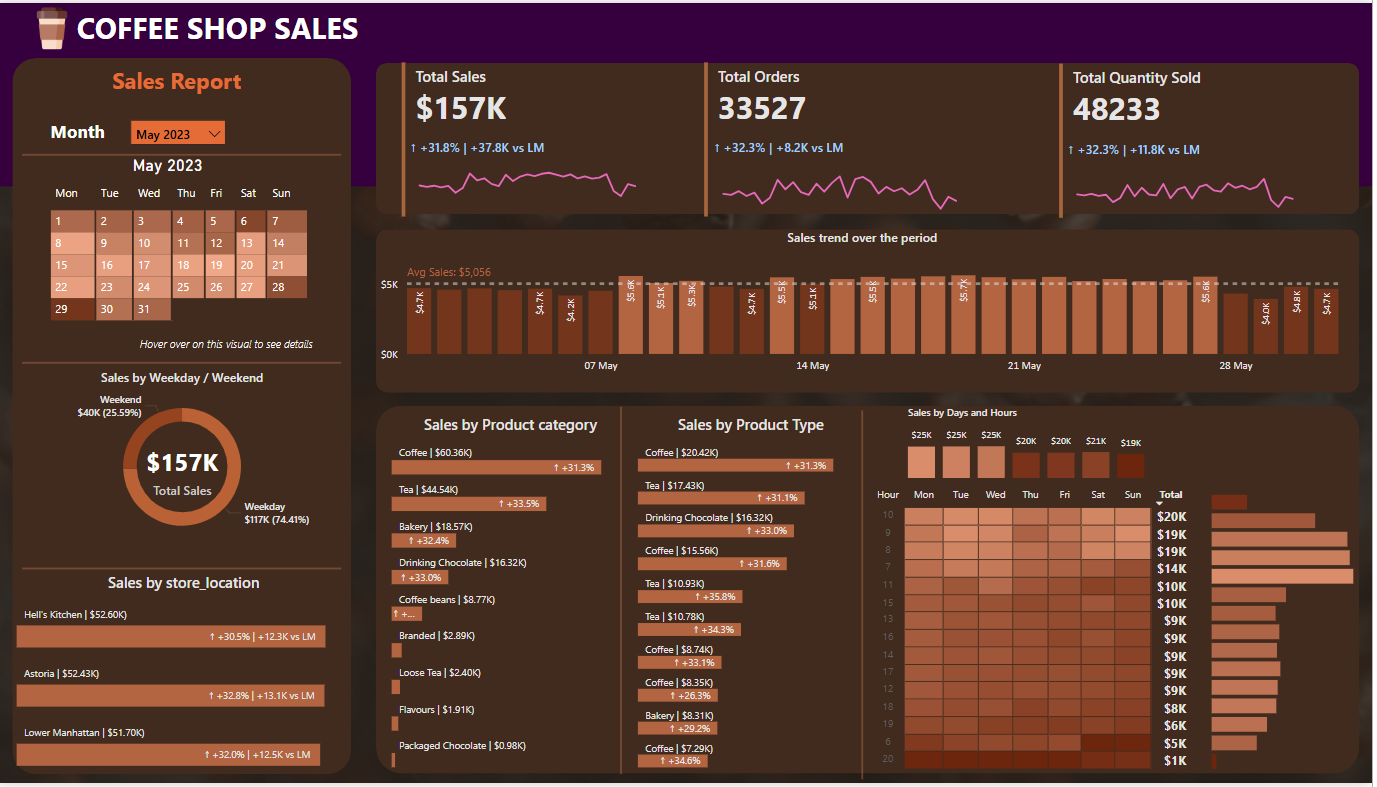

What the dashboard file says about the page in this screenshot:
{"tool":"powerbi","page":{"name":"Page 1","canvas":[1500,850],"ordinal":0},"visuals":[{"type":"shape","box":[414.3,438.9,1071.9,401.2],"z":0},{"type":"shape","box":[0,0,1500.7,199.9],"z":1000},{"type":"shape","box":[17.4,59.4,369.4,780.8],"z":2000},{"type":"shape","box":[414.3,65.2,1071.9,165.1],"z":3000},{"type":"textbox","box":[82.6,0,365,66.6],"z":4000},{"type":"cardVisual","fields":{"Data":["Date Table.Total Sales"]},"box":[437.5,59.4,286.8,178.2],"z":5000,"group":"g1"},{"type":"cardVisual","fields":{"Data":["Transactions.Total Orders"]},"box":[767.7,59.4,307.1,178.2],"z":5000,"group":"g2"},{"type":"cardVisual","fields":{"Data":["Transactions.Total Quantity Sold"]},"box":[1154.5,60.8,286.8,178.2],"z":5000,"group":"g3"},{"type":"slicer","fields":{"Values":["Date Table.Month Year"]},"box":[141.5,122.2,114.2,38.6],"z":5000},{"type":"group","id":"g1","title":"Group 1","box":[437.5,59.4,286.8,178.2],"z":6000},{"type":"lineChart","fields":{"Category":["Date Table.Date Hierarchy.Date"],"Y":["Date Table.Total Sales"]},"box":[447.6,147.8,265.1,82.6],"z":6000,"group":"g1"},{"type":"lineChart","fields":{"Category":["Date Table.Date Hierarchy.Date"],"Y":["Transactions.Total Orders"]},"box":[778.6,147.8,283.8,82.6],"z":6000,"group":"g2"},{"type":"lineChart","fields":{"Category":["Date Table.Date Hierarchy.Date"],"Y":["Transactions.Total Quantity Sold"]},"box":[1164.6,149.2,265.1,82.6],"z":6000,"group":"g3"},{"type":"group","id":"g2","title":"Group 1","box":[767.7,59.4,307.1,178.2],"z":7000},{"type":"group","id":"g3","title":"Group 1","box":[1154.5,60.8,286.8,178.2],"z":8000},{"type":"pivotTable","fields":{"Rows":["Date Table.Week Number"],"Columns":["Date Table.Day Name"],"Values":["Min(Date Table.Day Number)"]},"box":[29,191.2,347.7,199.9],"z":9000},{"type":"card","fields":{"Values":["Min(Date Table.Month Year)"]},"box":[127.5,153.5,118.8,46.4],"z":10000},{"type":"card","fields":{"Values":["Transactions.Foot Note"]},"box":[127.5,356.3,246.3,34.8],"z":11000},{"type":"shape","box":[29,373.7,347.7,37.7],"z":12000},{"type":"shape","box":[29,144.9,347.7,42],"z":13000},{"type":"donutChart","title":"Sales by Weekday / Weekend","fields":{"Category":["Date Table.Weekday / Weekend"],"Y":["Date Table.Total Sales"]},"box":[42,399.8,321.6,195.6],"z":14000},{"type":"card","fields":{"Values":["Date Table.Total Sales"]},"box":[127.5,470.8,150.6,79.7],"z":15000},{"type":"shape","box":[29,595.4,347.7,42],"z":16000},{"type":"clusteredBarChart","title":"Sales by store_location","fields":{"Category":["Transactions.store_location"],"Y":["Transactions.PlaceHoleder","Date Table.Total Sales"]},"box":[17.4,620,373.7,220.2],"z":17000},{"type":"shape","box":[414.3,246.3,1071.9,178.2],"z":18000},{"type":"columnChart","title":"Sales trend over the period","fields":{"Category":["Transactions.transaction_date"],"Y":["Date Table.Total Sales"]},"box":[414.3,246.3,1060.3,165.1],"z":19000},{"type":"clusteredBarChart","title":"Sales by Product category","fields":{"Y":["Transactions.PlaceHoleder","Date Table.Total Sales"],"Category":["Transactions.product_category"]},"box":[426.1,448.7,268.5,390.8],"z":20000},{"type":"shape","box":[649.7,440.6,62.7,400.4],"z":21000},{"type":"clusteredBarChart","title":"Sales by Product Type","fields":{"Y":["Transactions.PlaceHoleder","Date Table.Total Sales"],"Category":["Transactions.product_type"]},"box":[694.7,448.7,255.7,390.8],"z":22000},{"type":"shape","box":[913.4,443.8,62.7,402],"z":23000},{"type":"pivotTable","fields":{"Rows":["Transactions.Hour"],"Columns":["Date Table.Day Name"],"Values":["Date Table.Total Sales"]},"box":[950.4,522.6,369.9,316.8],"z":24000},{"type":"barChart","fields":{"Category":["Transactions.Hour"],"Y":["Date Table.Total Sales"]},"box":[1320.2,522.6,167.2,316.8],"z":25000},{"type":"columnChart","title":"Sales by Days and Hours","fields":{"Y":["Date Table.Total Sales"],"Category":["Date Table.Day Name"]},"box":[989,439,268.5,85.2],"z":26000},{"type":"textbox","box":[54.7,122.2,86.8,45],"z":27000},{"type":"textbox","box":[59.4,55,265.1,55],"z":27001},{"type":"image","box":[29,0,65.2,55],"z":27002}]}

Visuals, with their boxes in screenshot pixels (x1, y1, x2, y2), scaled from the page's 1500x850 canvas onto the 1377x787 screenshot:
shape: <bbox>380, 406, 1364, 778</bbox>
shape: <bbox>0, 0, 1376, 185</bbox>
shape: <bbox>16, 55, 355, 778</bbox>
shape: <bbox>380, 60, 1364, 213</bbox>
textbox: <bbox>76, 0, 411, 62</bbox>
cardVisual - Date Table.Total Sales: <bbox>402, 55, 665, 220</bbox>
cardVisual - Transactions.Total Orders: <bbox>705, 55, 987, 220</bbox>
cardVisual - Transactions.Total Quantity Sold: <bbox>1060, 56, 1323, 221</bbox>
slicer - Date Table.Month Year: <bbox>130, 113, 235, 149</bbox>
"Group 1" group: <bbox>402, 55, 665, 220</bbox>
lineChart - Date Table.Date Hierarchy.Date x Date Table.Total Sales: <bbox>411, 137, 654, 213</bbox>
lineChart - Date Table.Date Hierarchy.Date x Transactions.Total Orders: <bbox>715, 137, 975, 213</bbox>
lineChart - Date Table.Date Hierarchy.Date x Transactions.Total Quantity Sold: <bbox>1069, 138, 1312, 215</bbox>
"Group 1" group: <bbox>705, 55, 987, 220</bbox>
"Group 1" group: <bbox>1060, 56, 1323, 221</bbox>
pivotTable - Date Table.Week Number x Date Table.Day Name: <bbox>27, 177, 346, 362</bbox>
card - Min(Date Table.Month Year): <bbox>117, 142, 226, 185</bbox>
card - Transactions.Foot Note: <bbox>117, 330, 343, 362</bbox>
shape: <bbox>27, 346, 346, 381</bbox>
shape: <bbox>27, 134, 346, 173</bbox>
"Sales by Weekday / Weekend" donutChart: <bbox>39, 370, 334, 551</bbox>
card - Date Table.Total Sales: <bbox>117, 436, 255, 510</bbox>
shape: <bbox>27, 551, 346, 590</bbox>
"Sales by store_location" clusteredBarChart: <bbox>16, 574, 359, 778</bbox>
shape: <bbox>380, 228, 1364, 393</bbox>
"Sales trend over the period" columnChart: <bbox>380, 228, 1354, 381</bbox>
"Sales by Product category" clusteredBarChart: <bbox>391, 415, 638, 777</bbox>
shape: <bbox>596, 408, 654, 779</bbox>
"Sales by Product Type" clusteredBarChart: <bbox>638, 415, 872, 777</bbox>
shape: <bbox>839, 411, 896, 783</bbox>
pivotTable - Transactions.Hour x Date Table.Day Name: <bbox>872, 484, 1212, 777</bbox>
barChart - Transactions.Hour x Date Table.Total Sales: <bbox>1212, 484, 1365, 777</bbox>
"Sales by Days and Hours" columnChart: <bbox>908, 406, 1154, 485</bbox>
textbox: <bbox>50, 113, 130, 155</bbox>
textbox: <bbox>55, 51, 298, 102</bbox>
image: <bbox>27, 0, 86, 51</bbox>
